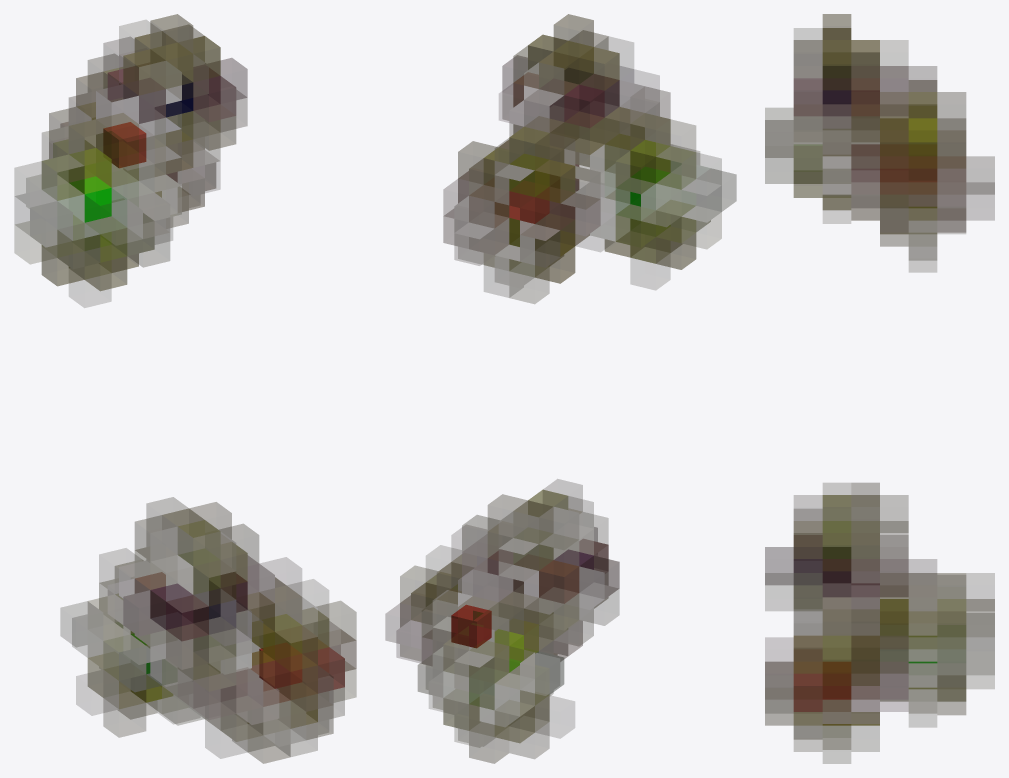
The model's file is iter_5.obj.
The picture shows the model from 3 angles, left to right: view 1: azimuth 30°, elevation 25°; view 2: azimuth 150°, elevation 25°; view 3: azimuth 270°, elevation 25°; orthographic projection. The views are drawn at different scales.
Parts seen in each view (by area): view 1: iter_5; view 2: iter_5; view 3: iter_5.
Part boxes in pixels (left/top/right/bottom): iter_5: left=14, top=14, right=356, bottom=763; iter_5: left=385, top=14, right=736, bottom=763; iter_5: left=765, top=14, right=994, bottom=763.
Size of the model in its own units: 1.2 by 2.6 by 0.8.
